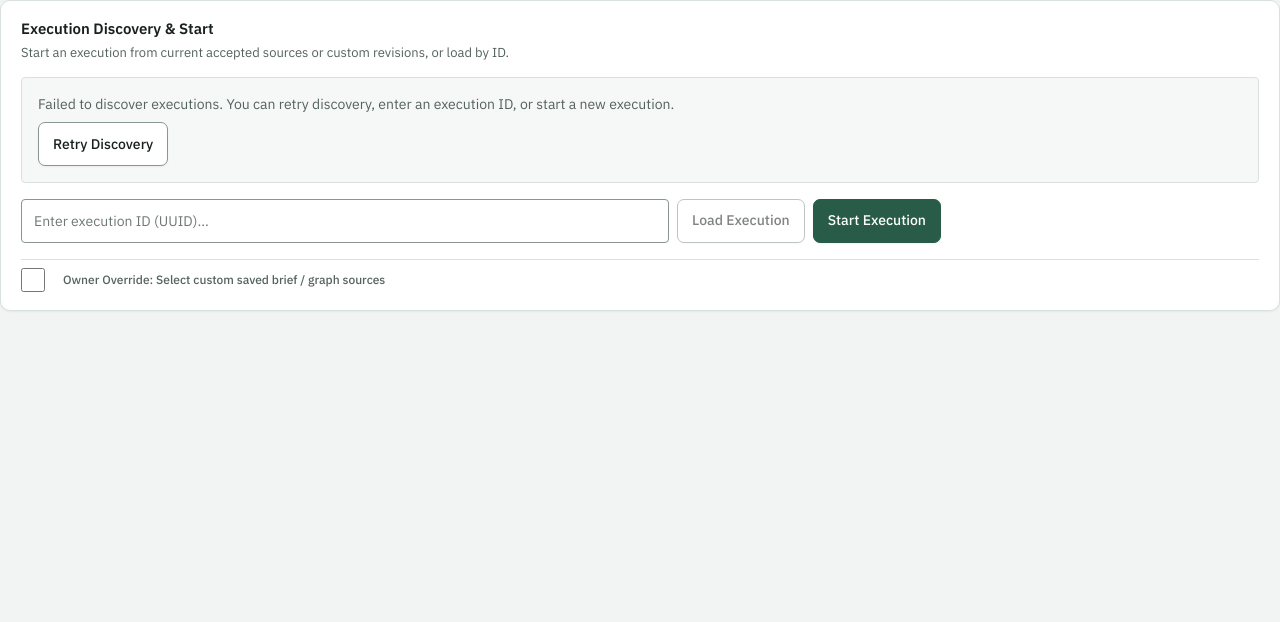
Test: DeliveryWorkspace › keeps all controls locked after an uncertain execution start
Click the button "Start Execution" at (877, 221), box [813,199,941,243]
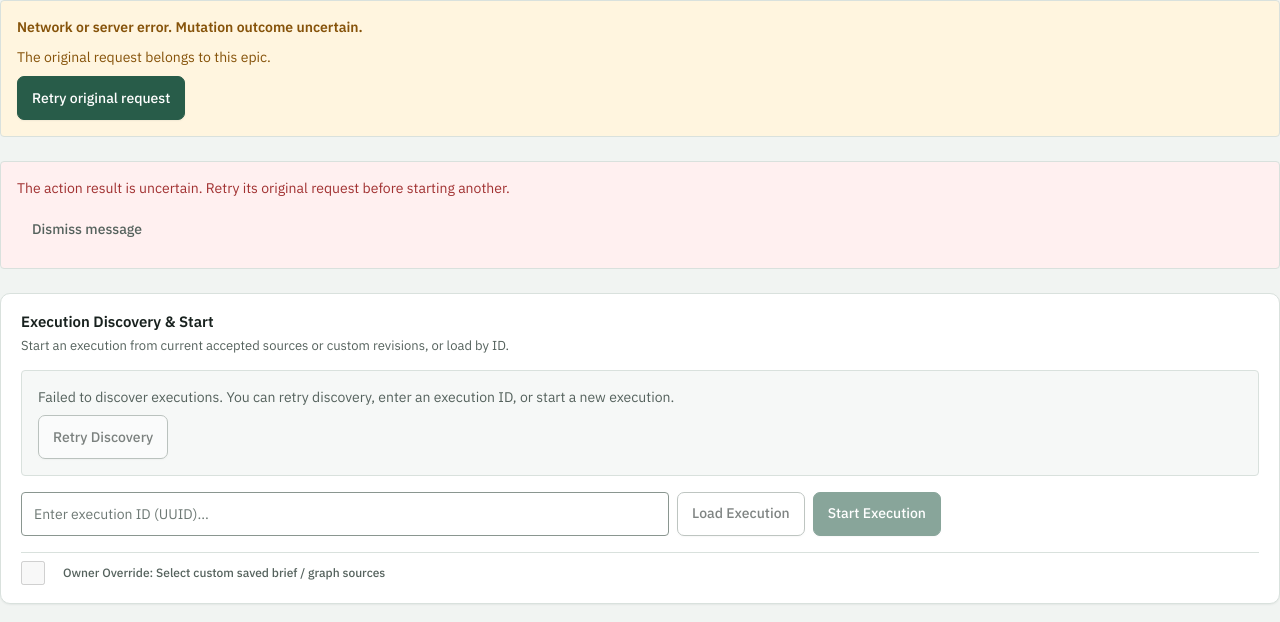
Expected: the button "Retry original request" is shown, [17,76,185,120]
Expected: the button "Start Execution" is disabled, [813,492,941,536]
Expected: the field labelled "execution ID" is disabled, [21,492,669,536]
